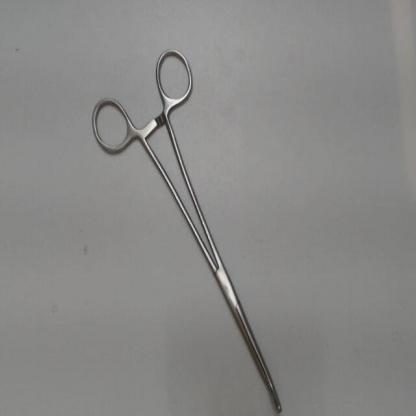Lahey Forceps: (86, 40, 292, 415)
